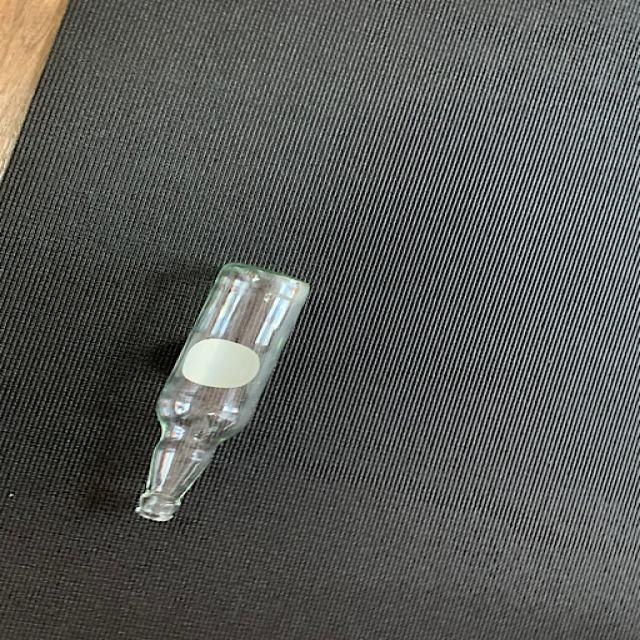litter: (136, 258, 322, 528)
